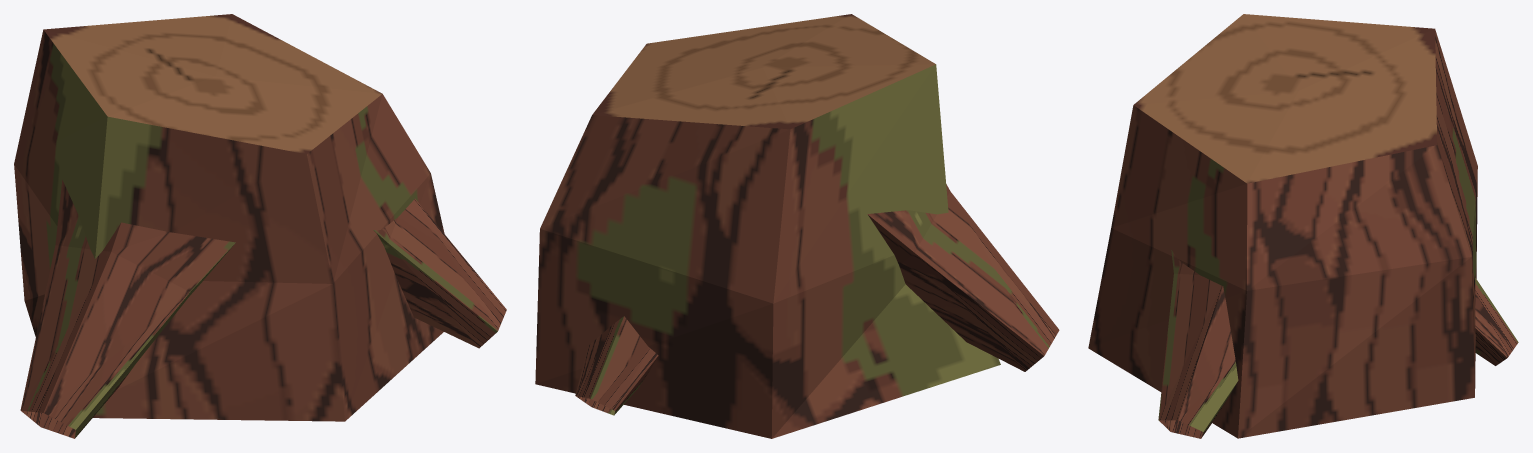
Rendered from SM_DW05_StumpLow.fbx.
3 renders of one model, left to right at view 1: azimuth 30°, elevation 25°; view 2: azimuth 150°, elevation 25°; view 3: azimuth 270°, elevation 25°, orthographic. The views are drawn at different scales.
Visible parts, largest first — view 1: DW05_Bark, DW05_Wood; view 2: DW05_Bark, DW05_Wood; view 3: DW05_Bark, DW05_Wood.
Boxes of the visible parts, box(x1,y1,x2,y2) form: DW05_Bark: box(14, 30, 506, 438); DW05_Wood: box(43, 14, 382, 154); DW05_Bark: box(535, 64, 1059, 438); DW05_Wood: box(592, 14, 935, 129); DW05_Bark: box(1088, 29, 1518, 438); DW05_Wood: box(1134, 14, 1437, 183).
Bounding box in the file's own units: 0.923 × 0.5536 × 0.7969.
